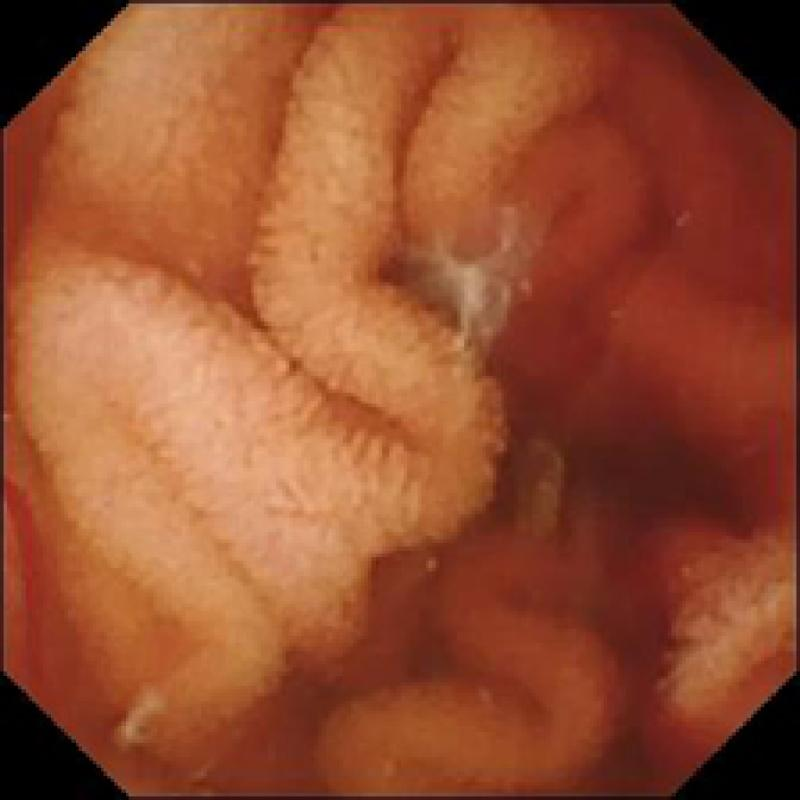bleeding: (8, 2, 800, 798)
